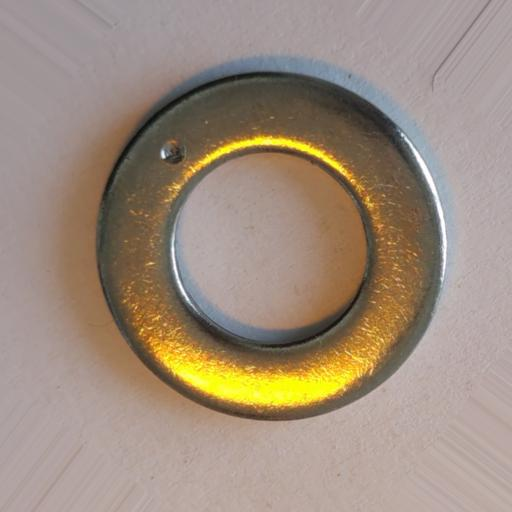circular_cavity: (160, 139, 187, 165)
